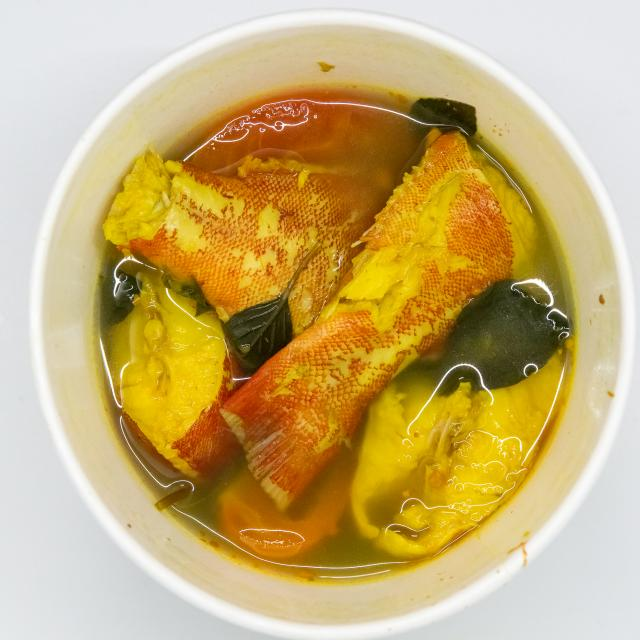Gulai-Ikan-Mas: (106, 104, 573, 569)
